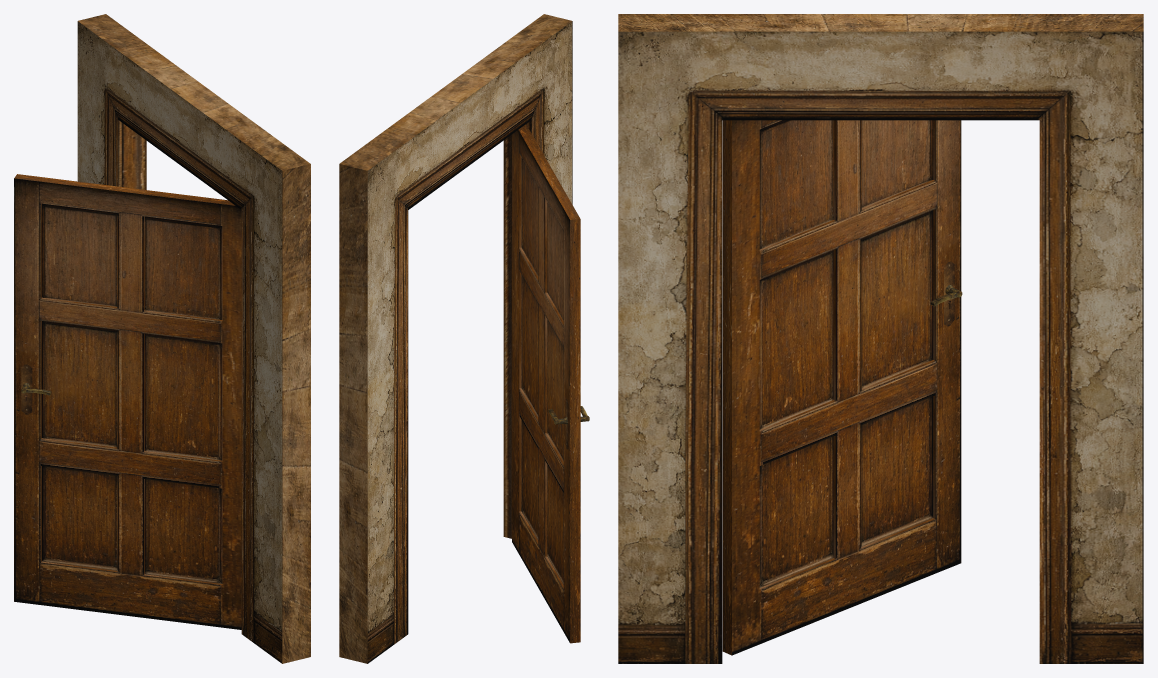
File: door.glb
3 renders of one model, left to right at view 1: azimuth 30°, elevation 25°; view 2: azimuth 150°, elevation 25°; view 3: azimuth 270°, elevation 25°, orthographic. The views are drawn at different scales.
Visible parts, largest first — view 1: Door, Frame; view 2: Frame, Door; view 3: Frame, Door.
Part boxes in pixels (x1,y1,x2,y2): Door: [14, 174, 241, 629]; Frame: [77, 14, 310, 663]; Frame: [339, 14, 572, 663]; Door: [512, 124, 580, 643]; Frame: [618, 14, 1143, 663]; Door: [722, 120, 961, 655].
Bounding box in the file's own units: 1.57 × 4.42 × 3.33.
2 materials, 2 textured.
